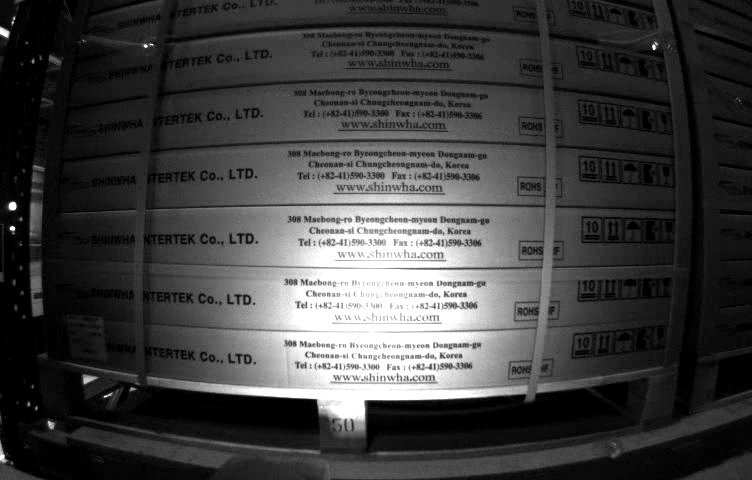True Barcode: (64, 315, 104, 361)
